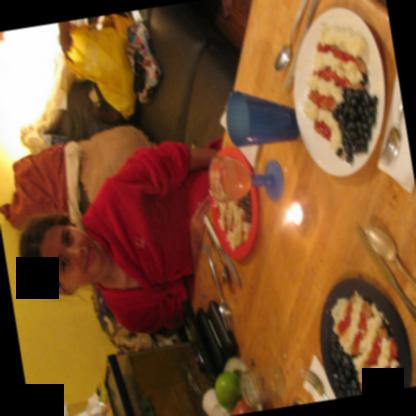handbag: (63, 11, 138, 120)
